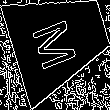M_E: (32, 10, 87, 70)
